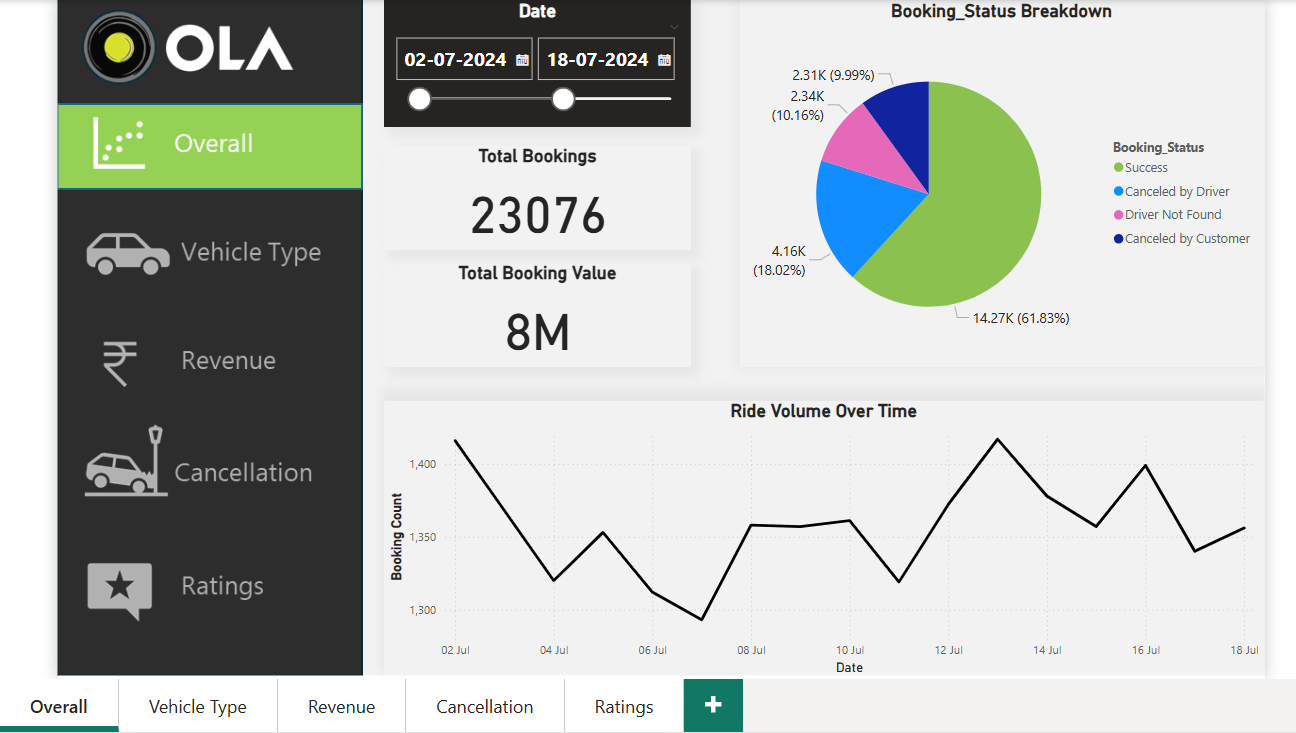

Layout of this report page (visuals, bound fields, positions):
{"tool":"powerbi","page":{"name":"Overall","canvas":[1280,720],"ordinal":0},"visuals":[{"type":"actionButton","box":[0,220.6,325.2,88.8],"z":0},{"type":"actionButton","box":[0,335.2,325.2,88.8],"z":1000},{"type":"actionButton","box":[0,449.8,325.2,88.8],"z":2000},{"type":"actionButton","box":[0,581.6,325.2,88.8],"z":3000},{"type":"lineChart","title":"Ride Volume Over Time","fields":{"Y":["CountNonNull(July.Booking_ID)"],"Category":["July.Date"]},"box":[346.8,424,932.8,295.3],"z":4000},{"type":"pieChart","title":" Booking_Status Breakdown","fields":{"Category":["July.Booking_Status"],"Y":["CountNonNull(July.Booking_Status)"]},"box":[723.8,0,555.7,389.2],"z":5000},{"type":"slicer","title":"Date","fields":{"Values":["July.Date"]},"box":[346.8,0,325.6,134.8],"z":6000},{"type":"card","title":"Total Bookings","fields":{"Values":["CountNonNull(July.Booking_ID)"]},"box":[346.8,154.4,325.6,110.5],"z":7000},{"type":"card","title":"Total Booking Value","fields":{"Values":["Sum(July.Booking_Value)"]},"box":[346.8,278.6,325.6,110.5],"z":8000}]}

Visuals, with their boxes on the page's 1280x720 design canvas (x1, y1, x2, y2). These are canvas units, not pixel positions in the 1296x733 screenshot, which may show the page scaled, cropped or inside an application window:
actionButton: {"x1": 0, "y1": 221, "x2": 325, "y2": 309}
actionButton: {"x1": 0, "y1": 335, "x2": 325, "y2": 424}
actionButton: {"x1": 0, "y1": 450, "x2": 325, "y2": 539}
actionButton: {"x1": 0, "y1": 582, "x2": 325, "y2": 670}
"Ride Volume Over Time" lineChart: {"x1": 347, "y1": 424, "x2": 1280, "y2": 719}
" Booking_Status Breakdown" pieChart: {"x1": 724, "y1": 0, "x2": 1280, "y2": 389}
"Date" slicer: {"x1": 347, "y1": 0, "x2": 672, "y2": 135}
"Total Bookings" card: {"x1": 347, "y1": 154, "x2": 672, "y2": 265}
"Total Booking Value" card: {"x1": 347, "y1": 279, "x2": 672, "y2": 389}
